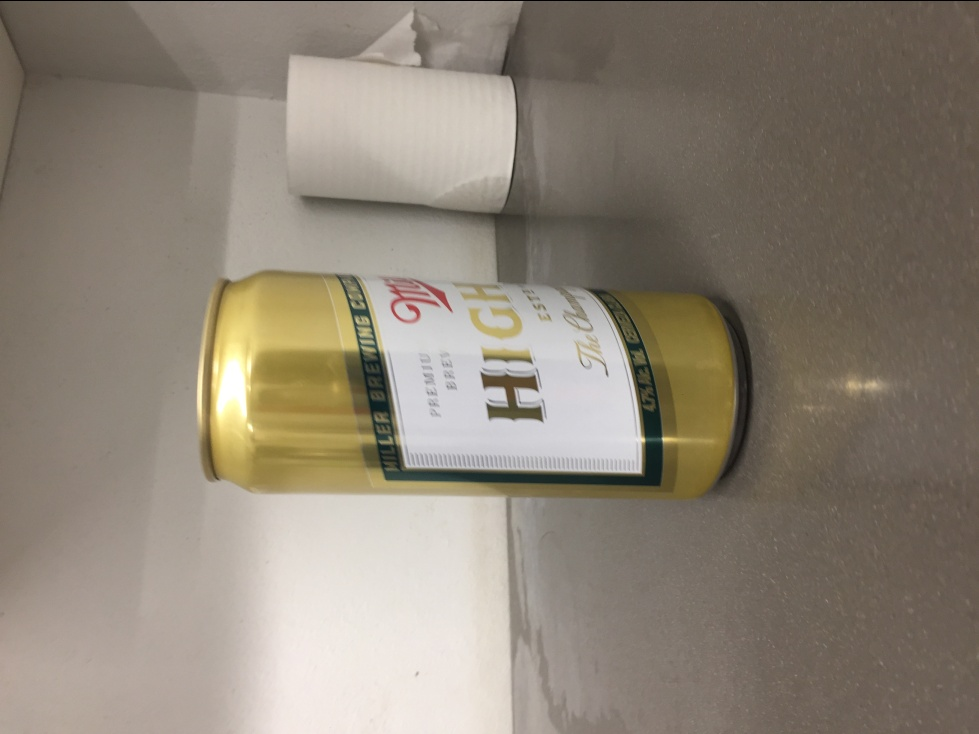miller: (192, 269, 750, 501)
